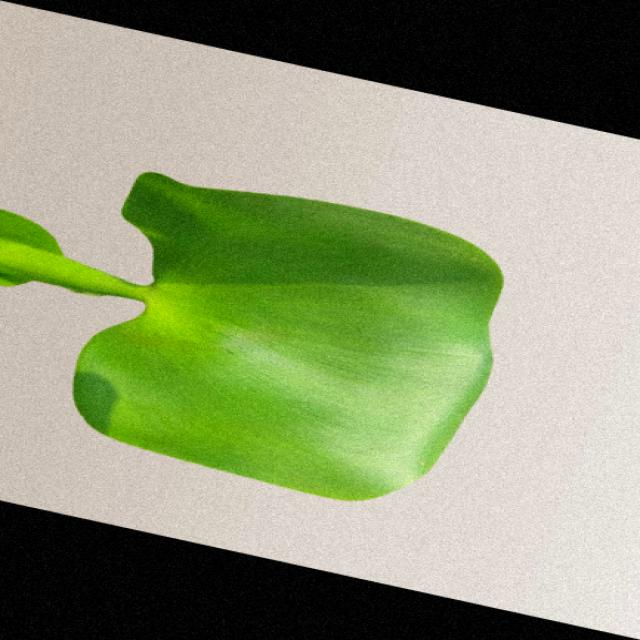daun sehat: (0, 172, 503, 499)
